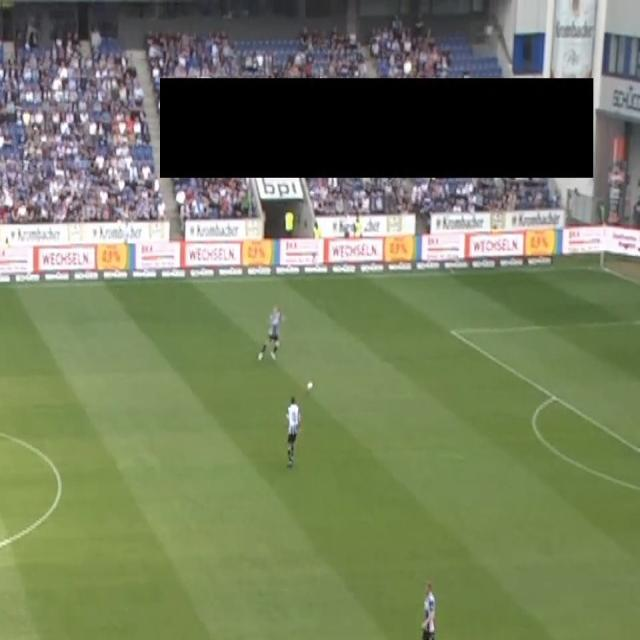ball: (306, 379, 314, 393)
